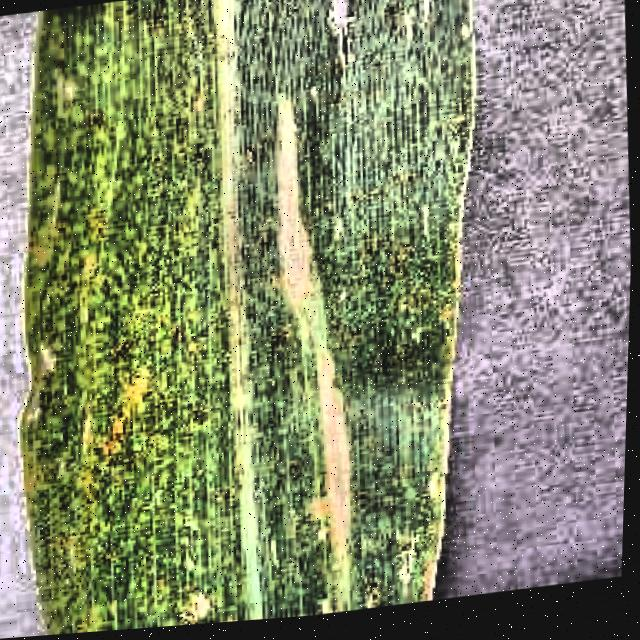blight: (9, 0, 503, 638)
